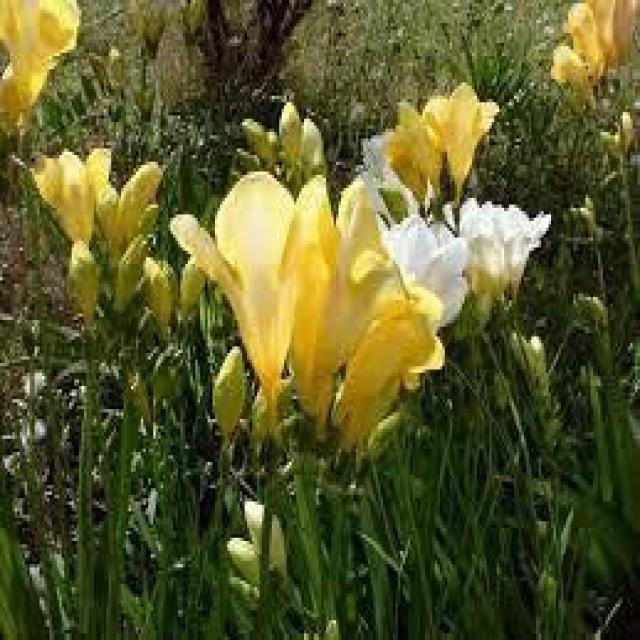freesia: (167, 154, 457, 446), (26, 148, 176, 348), (374, 70, 528, 214)
